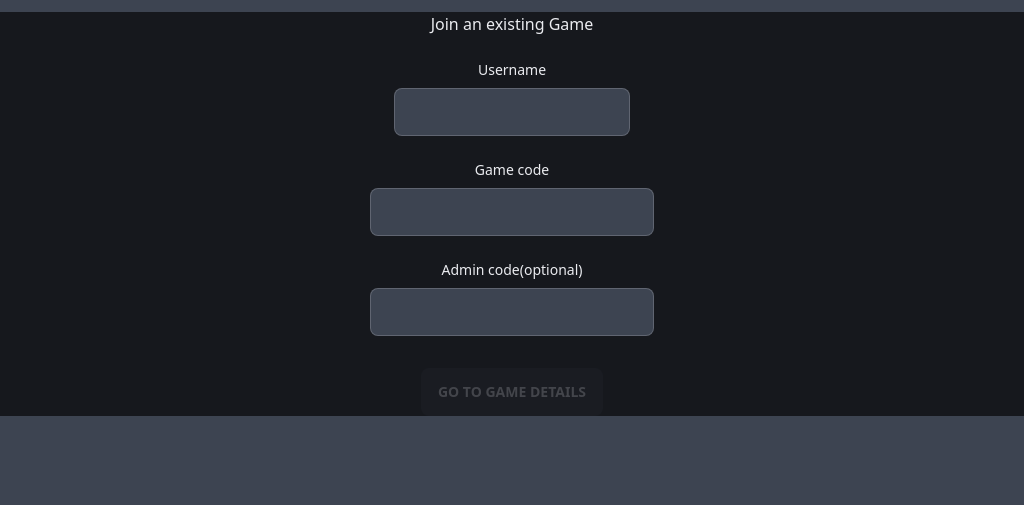
Test: LaunchGame testing › check wrong entry
Type "Sample" into the field with test id "launch-game-username".
click(512, 112); type("Sample")  # box [394,88,630,136]
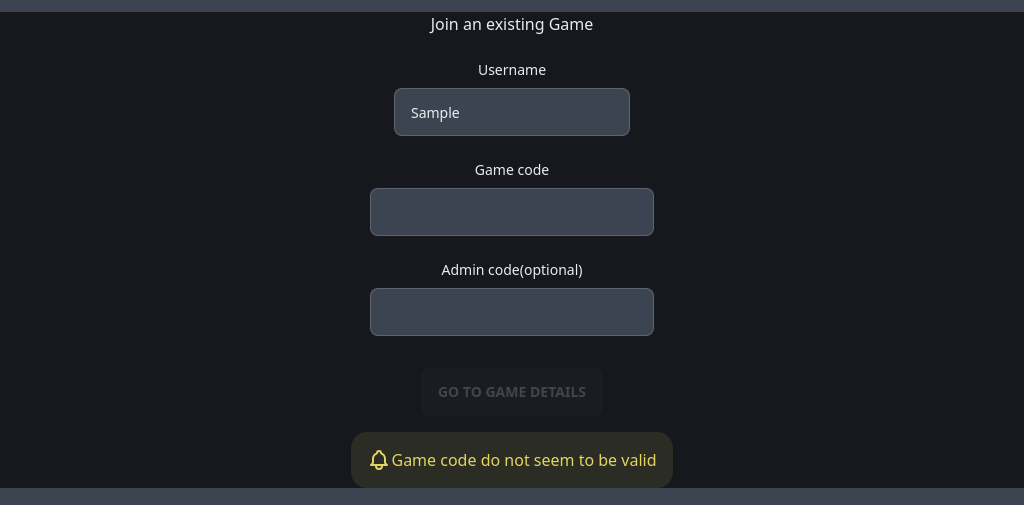
Expected: the button is disabled, [421,368,603,416]
Type "618dddd2132bf475bc833b8d" into the field with test id "launch-game-code".
click(512, 212); type("618dddd2132bf475bc833b8d")  # box [370,188,654,236]
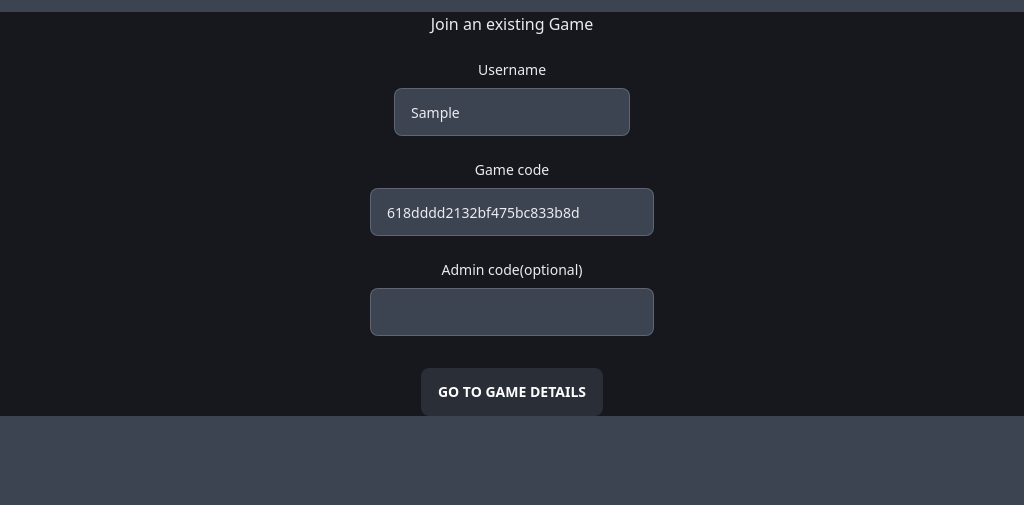
Expected: the button is enabled
Click the button.
click(512, 392)  # box [421,368,603,416]
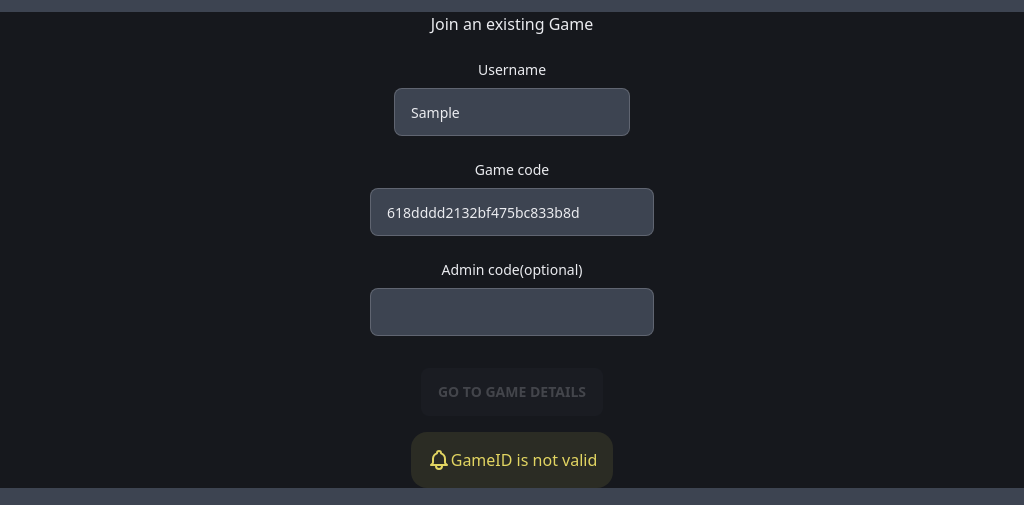
Expected: the button is disabled, [421,368,603,416]
